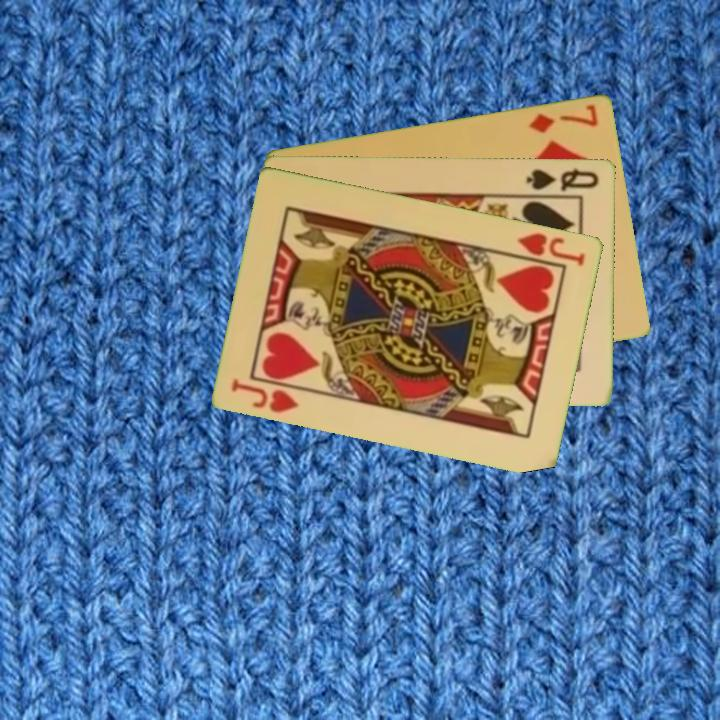7d: (525, 100, 601, 136)
Jh: (228, 375, 302, 416), (514, 229, 589, 269)
Qs: (523, 164, 602, 193)
